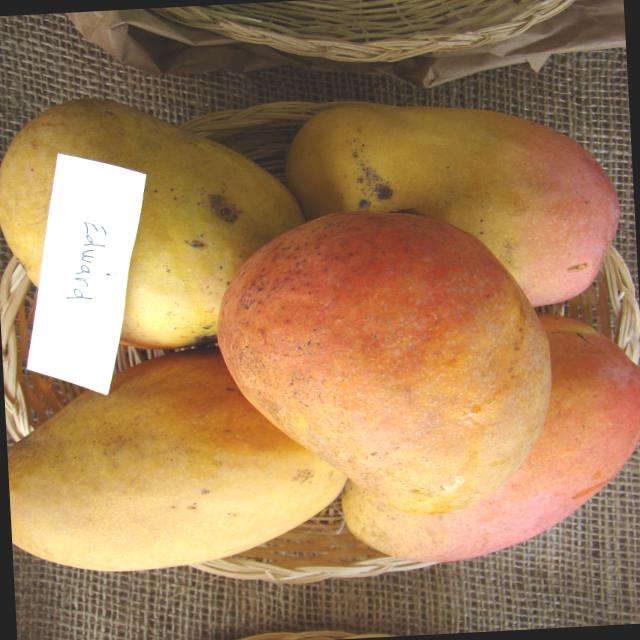onion: (217, 207, 548, 530), (0, 87, 311, 351), (11, 341, 353, 576), (281, 90, 624, 320)
